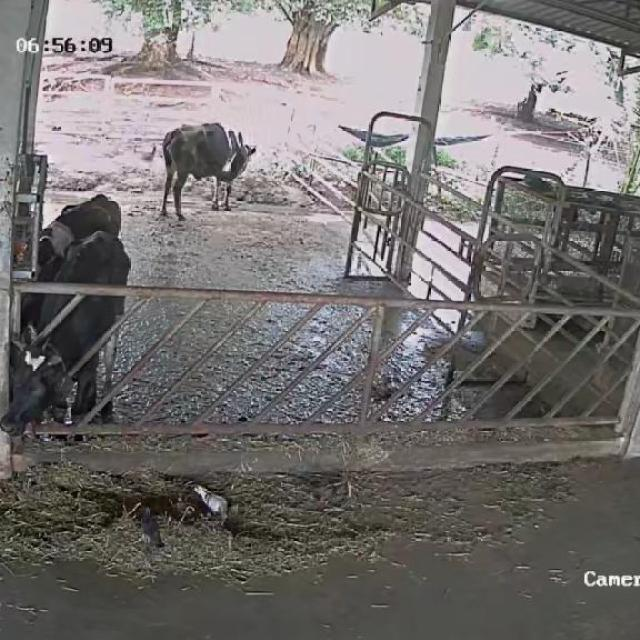feeding: (2, 231, 132, 446)
standing: (21, 192, 126, 327), (159, 118, 254, 221)
